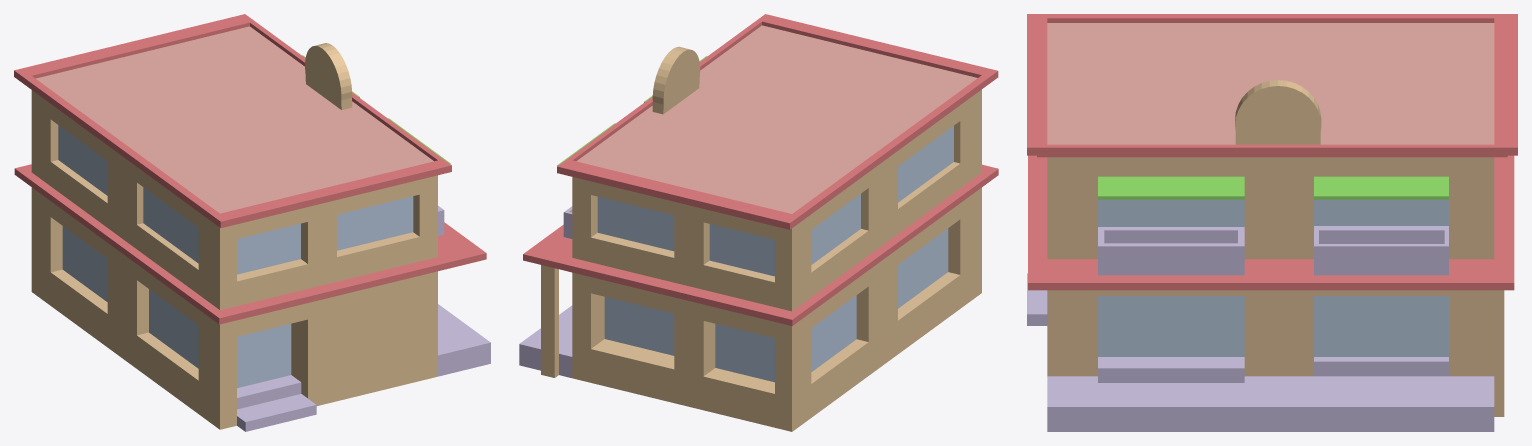
The model's file is Hotel.fbx.
The picture shows the model from 3 angles, left to right: view 1: azimuth 30°, elevation 25°; view 2: azimuth 150°, elevation 25°; view 3: azimuth 270°, elevation 25°; orthographic projection. The views are drawn at different scales.
Parts seen in each view (by area): view 1: MAIN, Roof.001, Deko.001, Glas.013, Terasse; view 2: MAIN, Roof.001, Glas.013, Deko.001, Terasse; view 3: Roof.001, MAIN, Terasse, Deko.001, Glas.013, Überdach.002.
Boxes of the visible parts, x1,y1,x2,y2 form: MAIN: (31, 43, 437, 429); Roof.001: (36, 26, 433, 213); Deko.001: (14, 14, 486, 324); Glas.013: (58, 125, 413, 388); Terasse: (237, 206, 490, 431); MAIN: (541, 46, 981, 431); Roof.001: (576, 25, 977, 213); Glas.013: (597, 126, 953, 382); Deko.001: (523, 14, 998, 325); Terasse: (519, 206, 572, 377); Roof.001: (1047, 23, 1494, 144); MAIN: (1047, 80, 1504, 416); Terasse: (1027, 226, 1494, 431); Deko.001: (1027, 14, 1517, 290); Glas.013: (1098, 199, 1448, 356); Überdach.002: (1098, 176, 1448, 199).
Bounding box in the file's own units: 1666 × 1491 × 2134.
